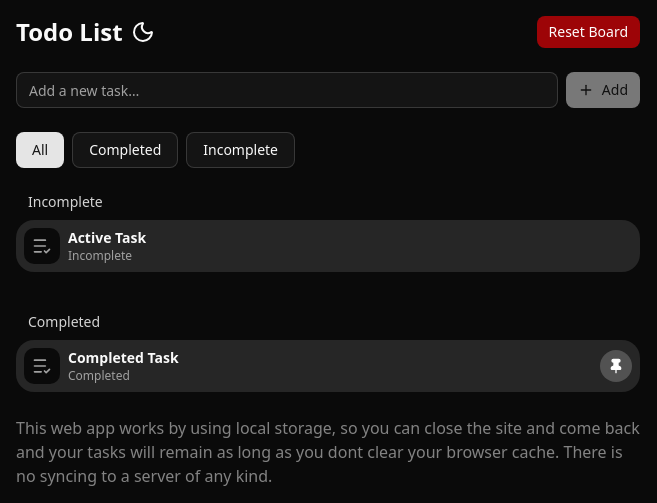
Todo App › filters tasks correctly
Step 1. Click the button "Completed" → [125, 150], box [72,132,178,168]
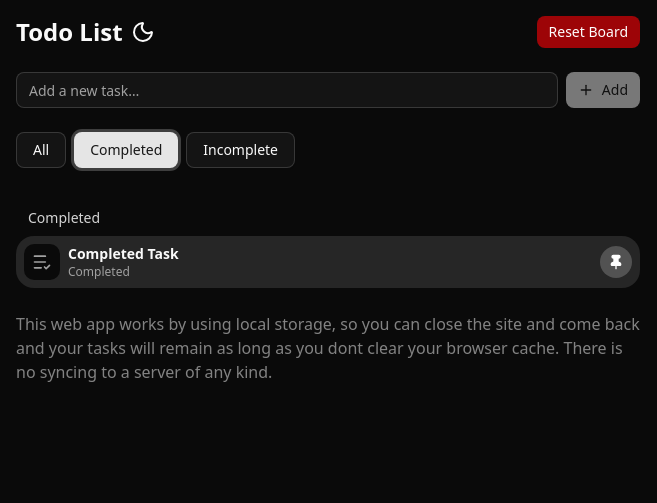
Expected: the text "Completed Task" is shown, [68,244,179,264]
Result: the text "Active Task" is gone
Step 2. Click the button "Incomplete" → [241, 150], box [186,132,295,168]
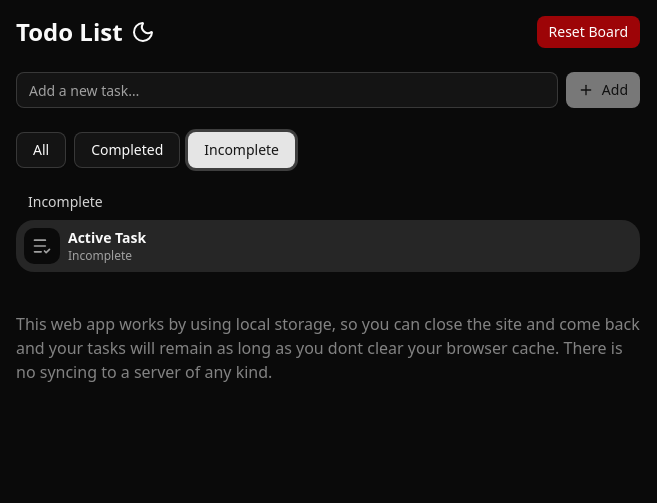
Result: the text "Active Task" is shown at [68,228,146,248]
Result: the text "Completed Task" is gone
